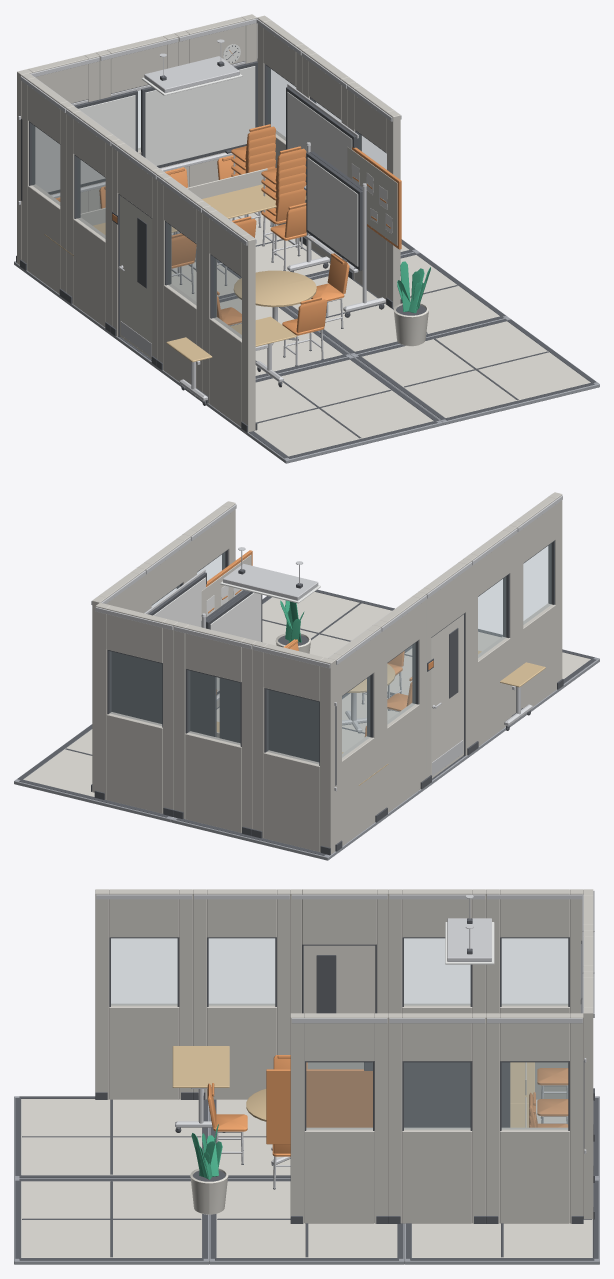
File: academy-seminar.glb
3 renders of one model, top to bottom at view 1: azimuth 30°, elevation 25°; view 2: azimuth 150°, elevation 25°; view 3: azimuth 270°, elevation 25°, orthographic. The views are drawn at different scales.
Visible parts, largest first — view 1: 018-floor-tile2, 172-whiteboard-bank1, 015-floor-tile2, 136-corridor-wall-module0, 133-corridor-wall-module0, 132-corridor-wall-module0, 135-corridor-wall-module0, 017-floor-tile2, 153-corridor-wall-module0, 134-door-module0, 170-mobile-whiteboard6, 134-door-moduleroom-doorcarcass (+42 smaller); view 2: 148-corridor-wall-module0, 149-corridor-wall-module0, 150-corridor-wall-module0, 172-whiteboard-bank0, 133-corridor-wall-module0, 132-corridor-wall-module0, 135-corridor-wall-module0, 136-corridor-wall-module0, 018-floor-tile2, 134-door-module0, 134-door-moduleroom-doorcarcass, 149-corridor-wall-module3 (+33 smaller); view 3: 153-corridor-wall-module0, 152-corridor-wall-module0, 151-corridor-wall-module0, 136-corridor-wall-module0, 018-floor-tile2, 015-floor-tile2, 135-corridor-wall-module0, 017-floor-tile2, 132-corridor-wall-module0, 134-door-module0, 016-floor-tile2, 133-corridor-wall-module0 (+42 smaller).
Part boxes in pixels (x1,y1,x2,y2): 018-floor-tile2: [362, 321, 590, 417]; 172-whiteboard-bank1: [35, 66, 255, 192]; 015-floor-tile2: [254, 359, 433, 456]; 136-corridor-wall-module0: [203, 206, 255, 432]; 133-corridor-wall-module0: [67, 106, 119, 327]; 132-corridor-wall-module0: [21, 73, 73, 293]; 135-corridor-wall-module0: [157, 173, 209, 392]; 017-floor-tile2: [292, 255, 499, 351]; 153-corridor-wall-module0: [348, 82, 400, 308]; 134-door-module0: [112, 139, 164, 359]; 170-mobile-whiteboard6: [307, 157, 358, 266]; 134-door-moduleroom-doorcarcass: [120, 195, 152, 358]; 148-corridor-wall-module0: [252, 641, 335, 854]; 149-corridor-wall-module0: [174, 622, 256, 832]; 150-corridor-wall-module0: [95, 602, 177, 813]; 172-whiteboard-bank0: [111, 651, 336, 785]; 133-corridor-wall-module0: [374, 592, 425, 812]; 132-corridor-wall-module0: [328, 625, 380, 846]; 135-corridor-wall-module0: [464, 525, 516, 746]; 136-corridor-wall-module0: [509, 492, 562, 708]; 018-floor-tile2: [262, 592, 391, 657]; 134-door-module0: [419, 558, 471, 778]; 134-door-moduleroom-doorcarcass: [431, 614, 463, 778]; 149-corridor-wall-module3: [188, 670, 240, 744]; 153-corridor-wall-module0: [290, 1013, 388, 1223]; 152-corridor-wall-module0: [388, 1013, 485, 1223]; 151-corridor-wall-module0: [486, 1013, 583, 1223]; 136-corridor-wall-module0: [95, 889, 192, 1099]; 018-floor-tile2: [21, 1181, 201, 1257]; 015-floor-tile2: [21, 1099, 201, 1175]; 135-corridor-wall-module0: [193, 889, 290, 1099]; 017-floor-tile2: [216, 1181, 397, 1257]; 132-corridor-wall-module0: [486, 889, 583, 1099]; 134-door-module0: [290, 889, 388, 1013]; 016-floor-tile2: [412, 1219, 592, 1257]; 133-corridor-wall-module0: [388, 889, 485, 1013].
Bounding box in the file's own units: 5.1 × 3.39 × 7.2.
